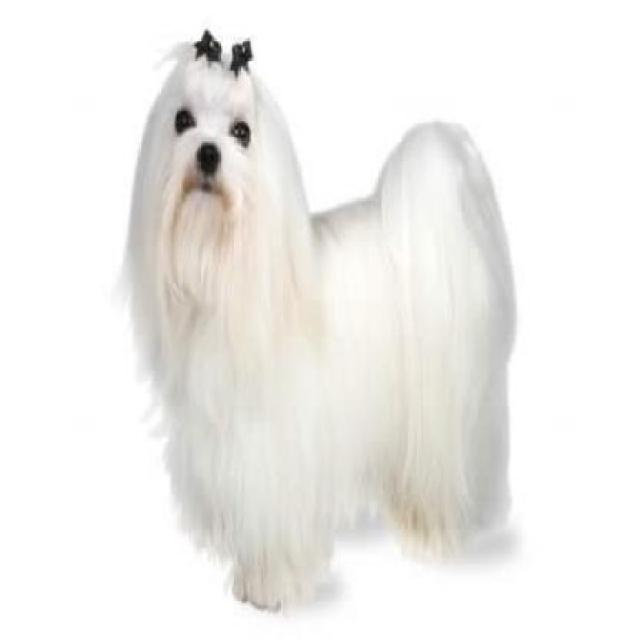Dog: (109, 21, 520, 622)
